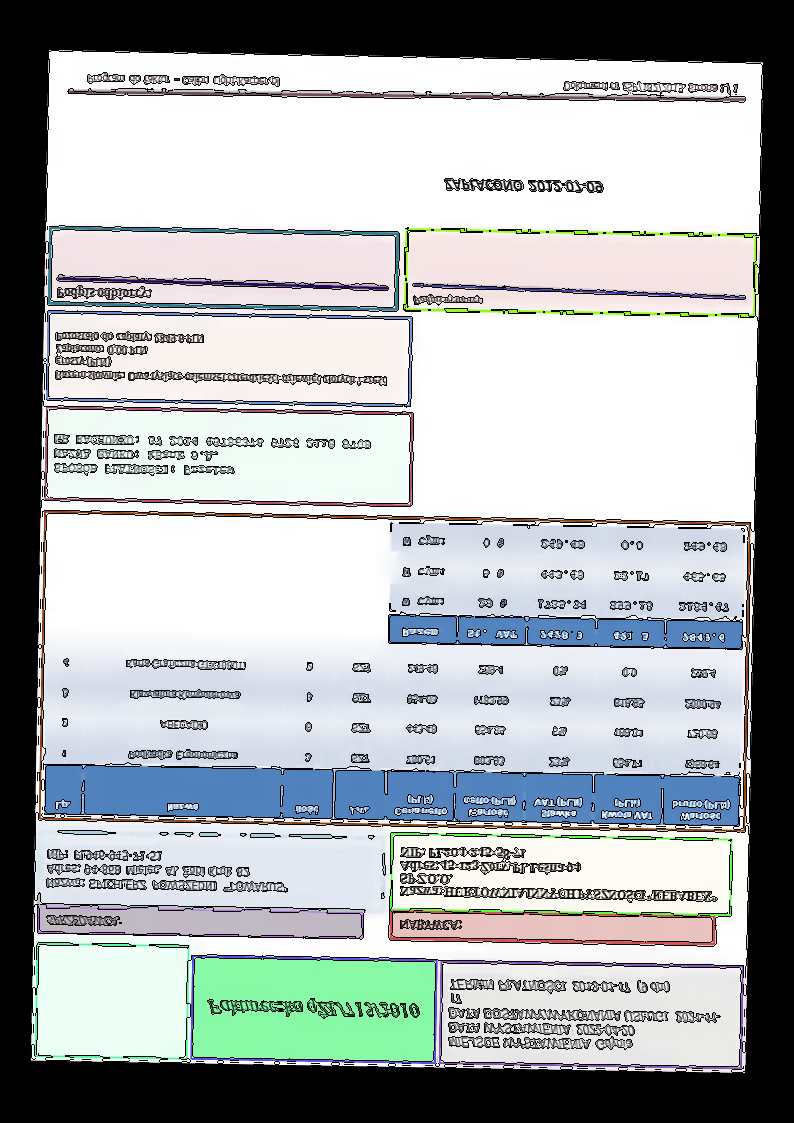Table: (42, 640, 741, 830), (387, 520, 746, 652)
TextBox: (446, 972, 723, 1055), (53, 328, 389, 390), (397, 845, 722, 905), (51, 430, 373, 482), (43, 845, 291, 899), (203, 995, 421, 1023), (84, 70, 280, 91), (562, 78, 741, 98), (442, 176, 605, 197), (53, 283, 152, 305), (44, 913, 121, 931), (409, 293, 485, 311), (396, 916, 462, 934)
